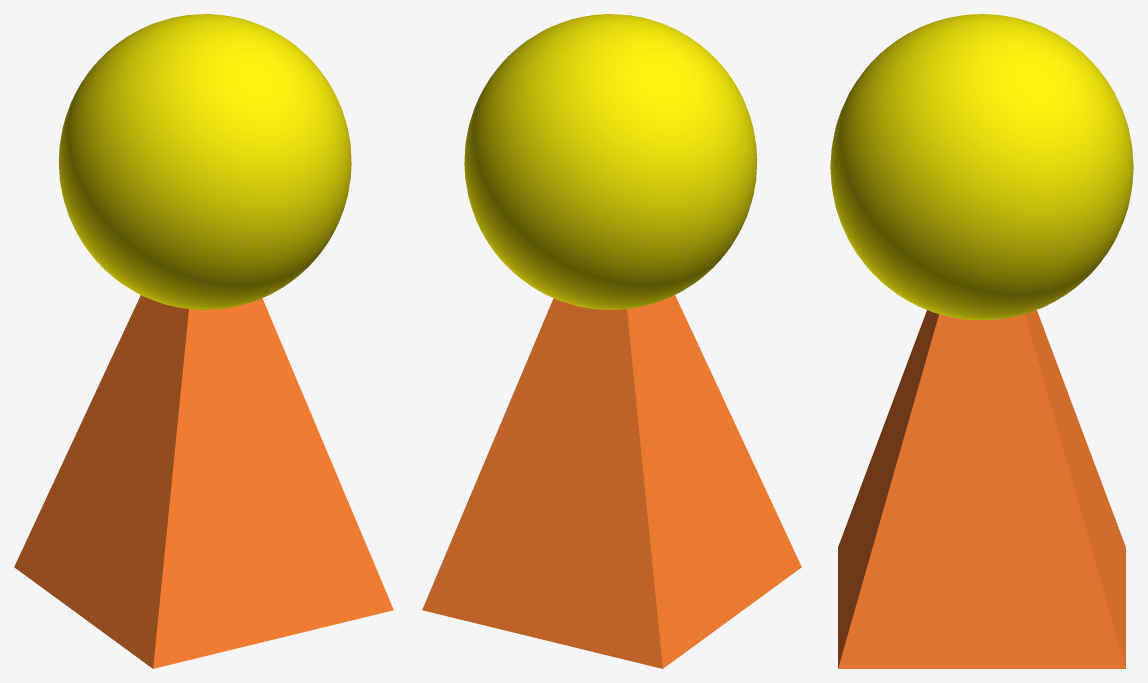
Rendered from ele_test.fbx.
3 views of the same model, side by side, from view 1: azimuth 30°, elevation 25°; view 2: azimuth 150°, elevation 25°; view 3: azimuth 270°, elevation 25° (orthographic). The views are drawn at different scales.
Parts seen in each view (by area): view 1: root (×2); view 2: root (×2); view 3: root (×2).
Boxes of the visible parts, left/top/right/bottom form: root (×2): left=14, top=14, right=393, bottom=668; root (×2): left=422, top=14, right=801, bottom=668; root (×2): left=830, top=14, right=1133, bottom=668.
Bounding box in the file's own units: 0.2161 × 0.4566 × 0.2161.
Materials: 2 (2 with a texture image).
